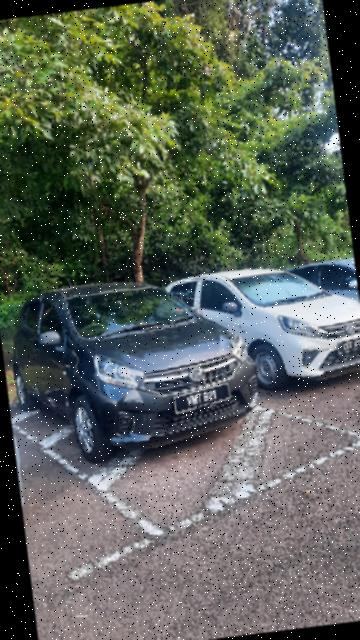License_Plate: (166, 382, 235, 416), (334, 330, 360, 360)
car: (1, 262, 271, 475), (175, 253, 360, 404)
